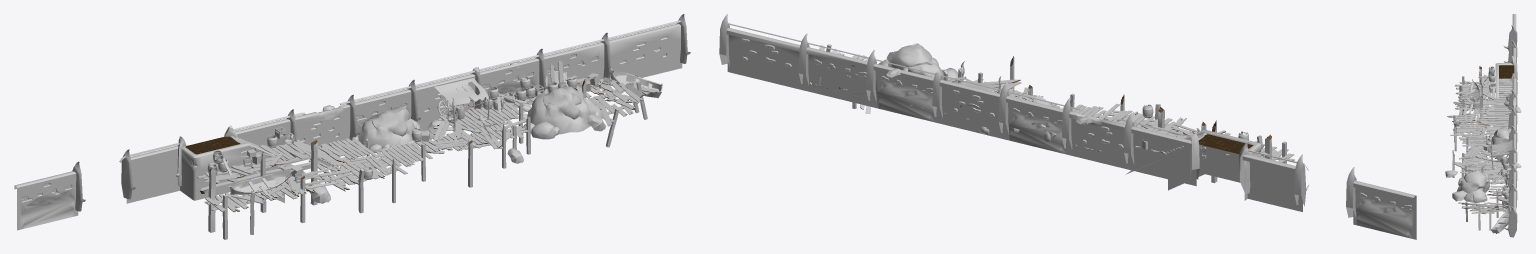
Rendered from lower_city_port.fbx.
3 views of the same model, side by side, from view 1: azimuth 30°, elevation 25°; view 2: azimuth 150°, elevation 25°; view 3: azimuth 270°, elevation 25° (orthographic). The views are drawn at different scales.
Visible parts, largest first — view 1: part_two.001; view 2: part_two.001; view 3: part_two.001.
Boxes of the visible parts, x1,y1,x2,y2 form: part_two.001: [14, 14, 690, 239]; part_two.001: [719, 14, 1416, 239]; part_two.001: [1445, 14, 1521, 237].
Bounding box in the file's own units: 61.07 × 7.13 × 9.79.
